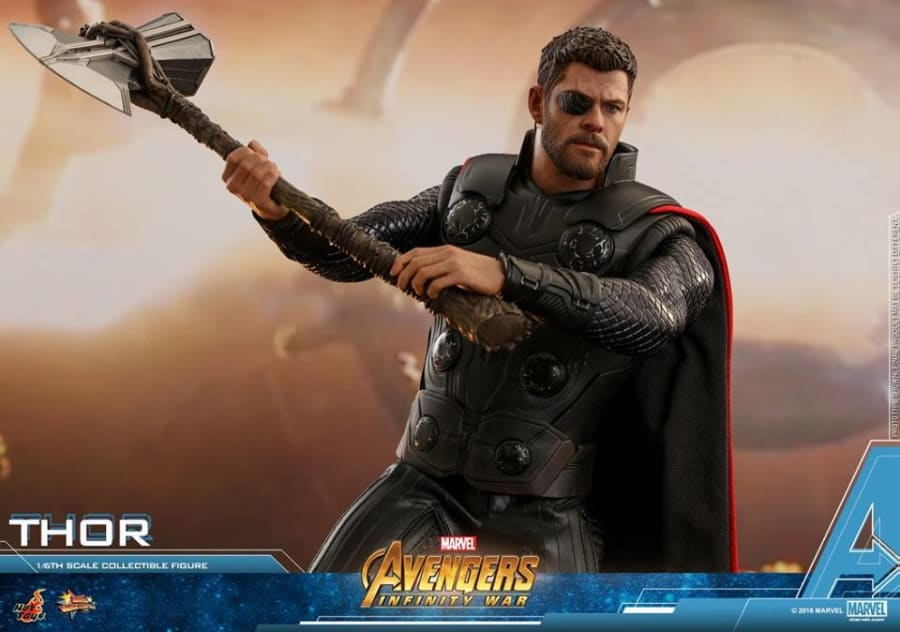THOR Hammer: (7, 20, 515, 359)
